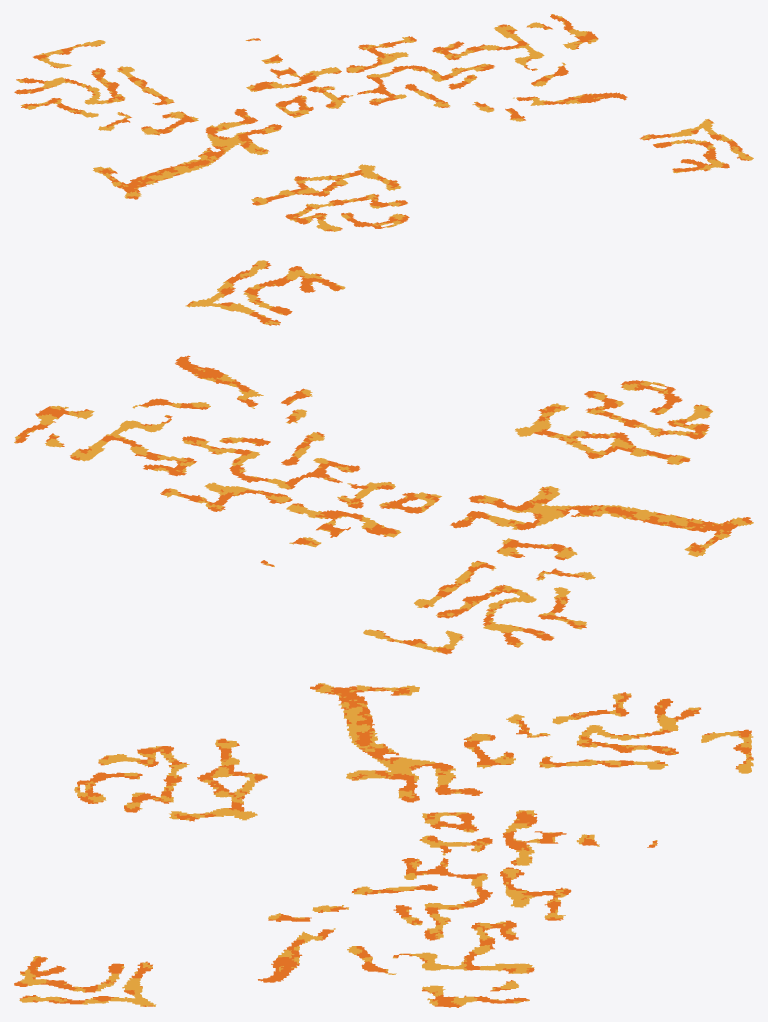
The model's file is Dungeon-3C-Tide.fbx.
3 views of the same model, one above another, from view 1: azimuth 30°, elevation 25°; view 2: azimuth 150°, elevation 25°; view 3: azimuth 270°, elevation 25° (orthographic). The views are drawn at different scales.
Visible parts, largest first — view 1: Dungeon-3C-Tide; view 2: Dungeon-3C-Tide; view 3: Dungeon-3C-Tide.
Part boxes in pixels (bbox=[...]): Dungeon-3C-Tide: bbox=[14, 14, 753, 231]; Dungeon-3C-Tide: bbox=[14, 260, 753, 654]; Dungeon-3C-Tide: bbox=[14, 683, 753, 1007].
Bounding box in the file's own units: 129 × 0 × 125.
